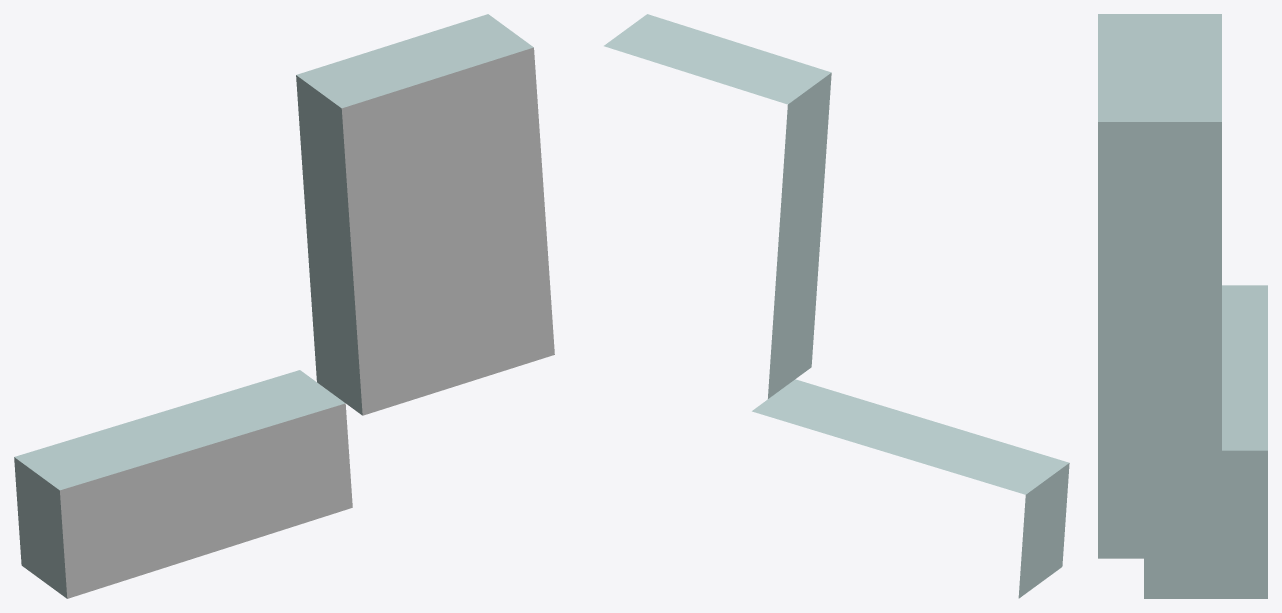
3 renders of one model, left to right at view 1: azimuth 30°, elevation 25°; view 2: azimuth 150°, elevation 25°; view 3: azimuth 270°, elevation 25°, orthographic. The views are drawn at different scales.
Visible parts, largest first — view 1: 0_1_2_1_0_2_2_3_0; view 2: 0_1_2_1_0_2_2_3_0; view 3: 0_1_2_1_0_2_2_3_0.
Part boxes in pixels (<box>): 0_1_2_1_0_2_2_3_0: <box>14,14,554,598</box>; 0_1_2_1_0_2_2_3_0: <box>604,14,1069,598</box>; 0_1_2_1_0_2_2_3_0: <box>1098,14,1267,598</box>.
Bounding box in the file's own units: 18.11 × 16.44 × 4.11.
